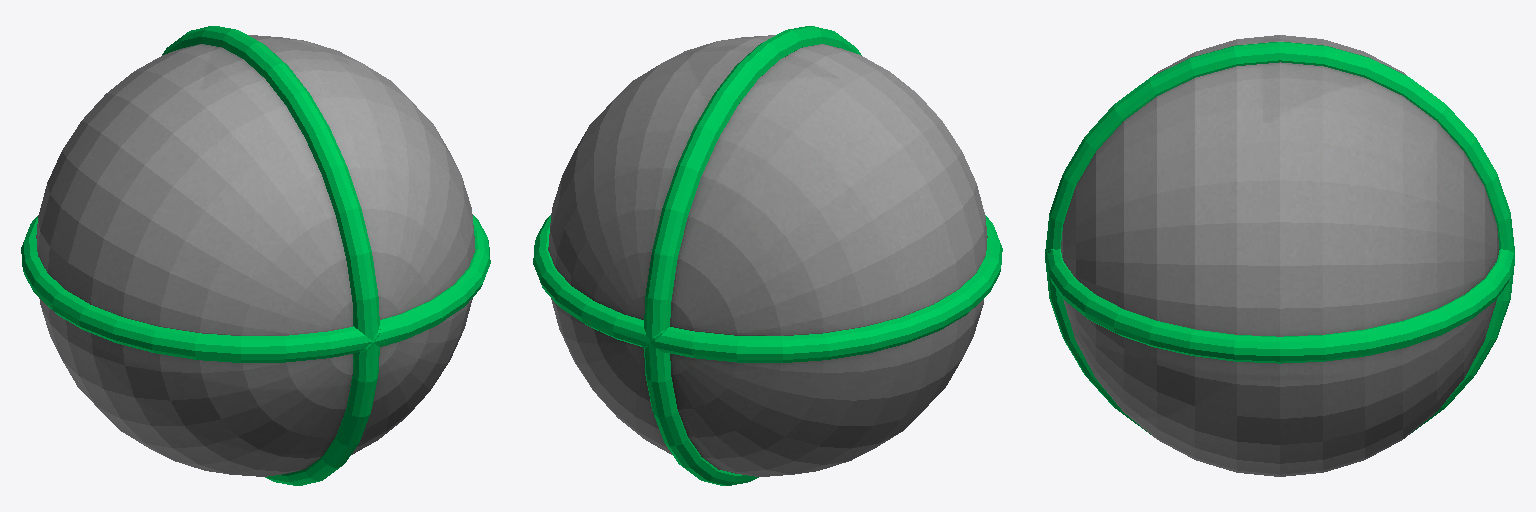
3 renders of one model, left to right at view 1: azimuth 30°, elevation 25°; view 2: azimuth 150°, elevation 25°; view 3: azimuth 270°, elevation 25°, orthographic.
Parts seen in each view (by area): view 1: TY; view 2: TY; view 3: TY.
Part boxes in pixels (x1,y1,x2,y2): TY: (21,26,490,485); TY: (533,26,1002,485); TY: (1045,35,1514,476).
Size of the model in its own units: 1.68 by 1.68 by 1.67.
Materials: 1 (1 with a texture image).